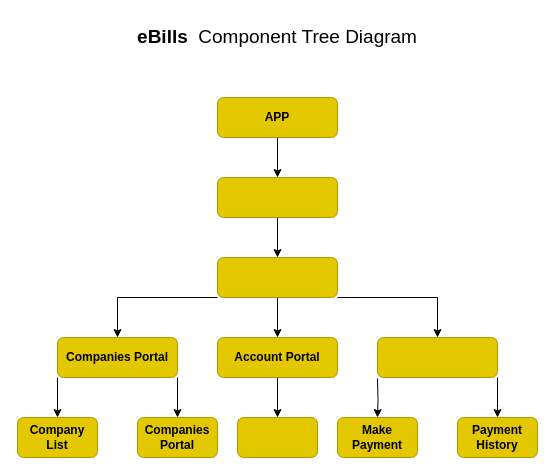
Some shapes in this 555 by 475 pixel diagram are drawn without their labels. Each missing label, with the box of its shape:
Payment Portal: (376, 336, 498, 378)
Routes: (216, 256, 338, 298)
User Portal / Index: (216, 176, 338, 218)
User Profile: (236, 416, 318, 458)
